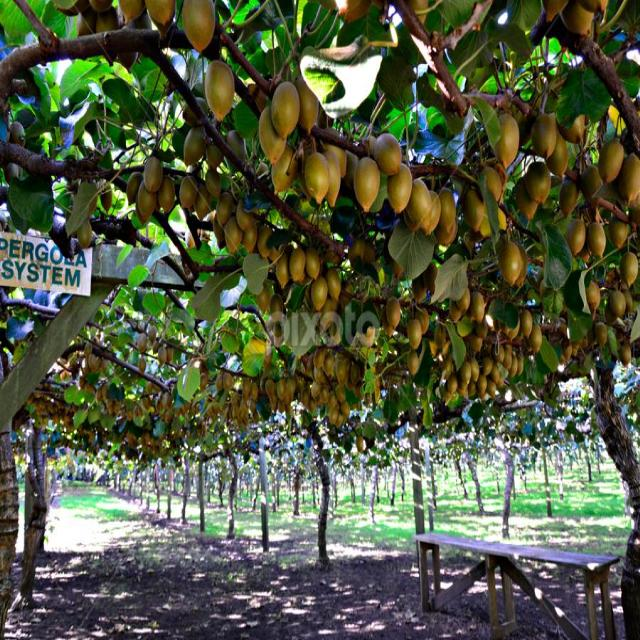kiwi: (205, 60, 236, 124), (182, 1, 218, 56), (259, 107, 289, 166), (493, 113, 522, 173), (273, 80, 301, 141), (355, 156, 382, 215), (385, 163, 414, 217), (405, 178, 434, 231), (270, 145, 300, 196), (317, 1, 378, 26), (305, 152, 332, 206), (375, 131, 404, 179), (598, 138, 626, 187), (299, 73, 321, 135), (562, 1, 596, 40), (462, 188, 489, 234), (532, 113, 557, 162), (323, 149, 343, 210), (526, 161, 553, 206), (547, 129, 571, 179), (556, 109, 587, 147), (580, 165, 605, 210), (619, 153, 640, 206), (500, 240, 523, 288), (515, 177, 540, 221), (558, 178, 583, 222), (183, 127, 209, 167), (439, 187, 459, 236), (422, 190, 442, 239), (481, 166, 505, 205), (227, 128, 247, 174), (565, 220, 588, 260), (608, 213, 631, 252), (587, 221, 609, 260), (618, 251, 640, 288), (330, 142, 350, 181), (185, 94, 210, 125), (226, 214, 244, 255), (118, 1, 147, 26), (180, 175, 200, 211), (145, 1, 176, 24), (144, 156, 163, 193), (407, 3, 434, 29), (139, 181, 157, 220), (126, 172, 146, 207), (515, 243, 530, 289), (434, 220, 459, 247), (541, 1, 571, 23), (159, 178, 177, 214), (290, 247, 307, 285), (348, 234, 368, 266), (195, 186, 213, 221), (587, 278, 604, 315), (151, 17, 178, 40), (206, 140, 224, 173), (258, 224, 274, 261), (206, 171, 225, 202), (319, 300, 338, 331), (470, 291, 487, 325), (8, 120, 27, 150), (424, 263, 441, 296), (239, 201, 257, 232), (276, 252, 291, 289), (216, 193, 233, 225), (307, 244, 321, 282), (407, 319, 423, 352), (313, 277, 328, 312), (339, 281, 357, 310), (386, 298, 402, 330), (327, 267, 342, 301), (610, 289, 627, 319), (577, 1, 613, 15), (78, 220, 93, 253), (574, 244, 596, 266), (404, 213, 424, 237), (529, 323, 544, 355), (412, 276, 428, 305), (101, 182, 115, 215), (271, 294, 285, 327), (214, 216, 227, 251), (242, 226, 258, 254), (257, 283, 271, 315), (382, 308, 397, 337), (603, 302, 620, 326), (417, 308, 431, 337), (507, 317, 522, 344), (457, 286, 472, 312), (521, 309, 534, 339), (90, 1, 115, 16), (434, 323, 447, 350), (595, 322, 609, 347), (5, 161, 20, 184), (270, 241, 285, 264), (540, 278, 555, 301), (441, 355, 454, 381), (136, 207, 150, 231), (407, 351, 420, 376), (87, 193, 99, 219), (623, 289, 635, 315), (314, 347, 327, 371), (469, 334, 484, 354), (621, 343, 633, 368), (322, 352, 334, 377), (364, 243, 377, 265), (449, 298, 460, 324), (475, 320, 489, 340), (273, 321, 285, 343), (138, 333, 150, 355), (494, 342, 506, 364), (502, 347, 513, 371), (482, 356, 494, 378), (336, 358, 347, 382), (460, 362, 471, 386), (470, 357, 480, 383), (486, 378, 497, 401), (276, 379, 287, 402), (498, 318, 512, 336), (148, 324, 158, 348), (225, 371, 235, 394), (430, 341, 442, 360), (588, 327, 598, 349), (266, 343, 276, 365), (158, 345, 168, 367), (491, 363, 501, 385), (315, 365, 326, 385), (351, 364, 361, 386), (562, 343, 574, 361), (509, 355, 518, 379), (336, 385, 347, 404), (250, 382, 260, 402), (448, 378, 459, 396), (456, 386, 470, 400), (537, 267, 547, 286), (138, 357, 148, 376), (478, 376, 488, 395), (266, 379, 276, 398), (321, 385, 331, 404), (307, 396, 317, 415), (341, 401, 351, 420), (329, 390, 338, 411), (496, 374, 507, 391), (311, 380, 322, 397), (329, 408, 339, 426), (517, 355, 525, 377), (493, 317, 502, 336), (288, 376, 297, 395), (199, 374, 209, 391), (335, 413, 345, 430), (193, 361, 205, 375), (243, 377, 251, 398), (464, 309, 475, 324), (302, 389, 311, 407), (89, 354, 98, 371), (469, 383, 478, 400), (217, 373, 225, 392), (357, 381, 365, 400), (357, 435, 365, 454), (153, 339, 161, 357), (102, 357, 110, 375), (558, 355, 568, 369), (346, 379, 356, 393), (444, 389, 454, 403), (573, 343, 581, 360), (166, 347, 174, 364), (365, 392, 373, 409), (145, 381, 154, 396), (162, 393, 171, 408), (103, 385, 111, 401), (270, 394, 278, 410), (87, 342, 94, 360), (262, 360, 271, 374), (296, 380, 305, 394), (316, 397, 325, 410), (478, 392, 488, 403), (156, 400, 163, 413), (279, 401, 286, 414), (184, 400, 191, 411), (158, 394, 163, 401)
